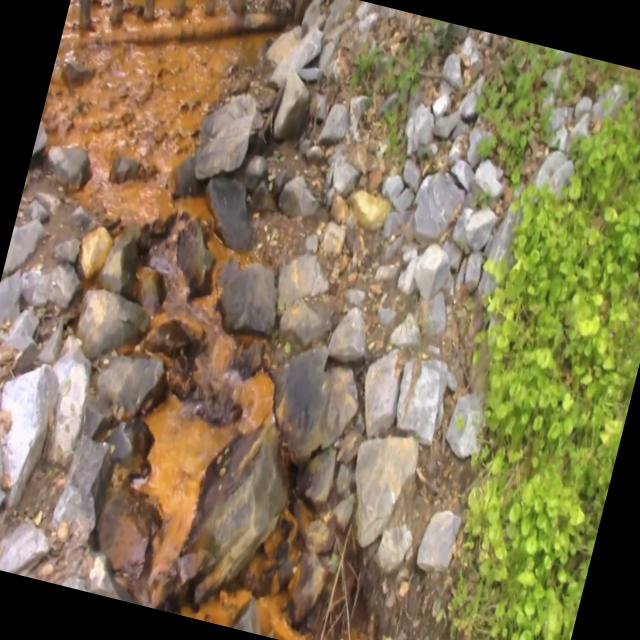yellow_boy: (141, 372, 272, 570), (108, 43, 231, 170), (154, 253, 241, 383), (86, 163, 211, 224), (176, 589, 251, 626), (257, 593, 309, 640), (208, 230, 239, 271)
